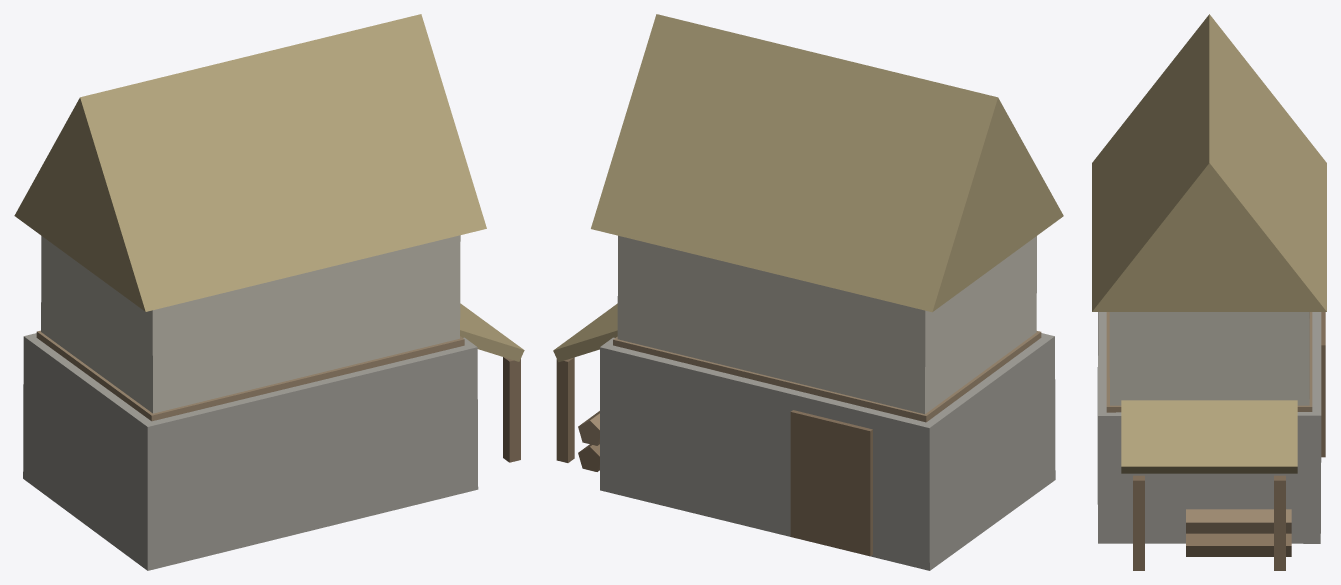
The model's file is generic_house_b.glb.
The picture shows the model from 3 angles, left to right: view 1: azimuth 30°, elevation 25°; view 2: azimuth 150°, elevation 25°; view 3: azimuth 270°, elevation 25°; orthographic projection. The views are drawn at different scales.
Visible parts, largest first — view 1: generic_house_b; view 2: generic_house_b; view 3: generic_house_b.
Boxes of the visible parts, box(x1,y1,x2,y2) form: generic_house_b: box(14, 14, 524, 570); generic_house_b: box(553, 14, 1063, 570); generic_house_b: box(1092, 14, 1326, 570).
Bounding box in the file's own units: 3.5 × 3.6 × 2.
